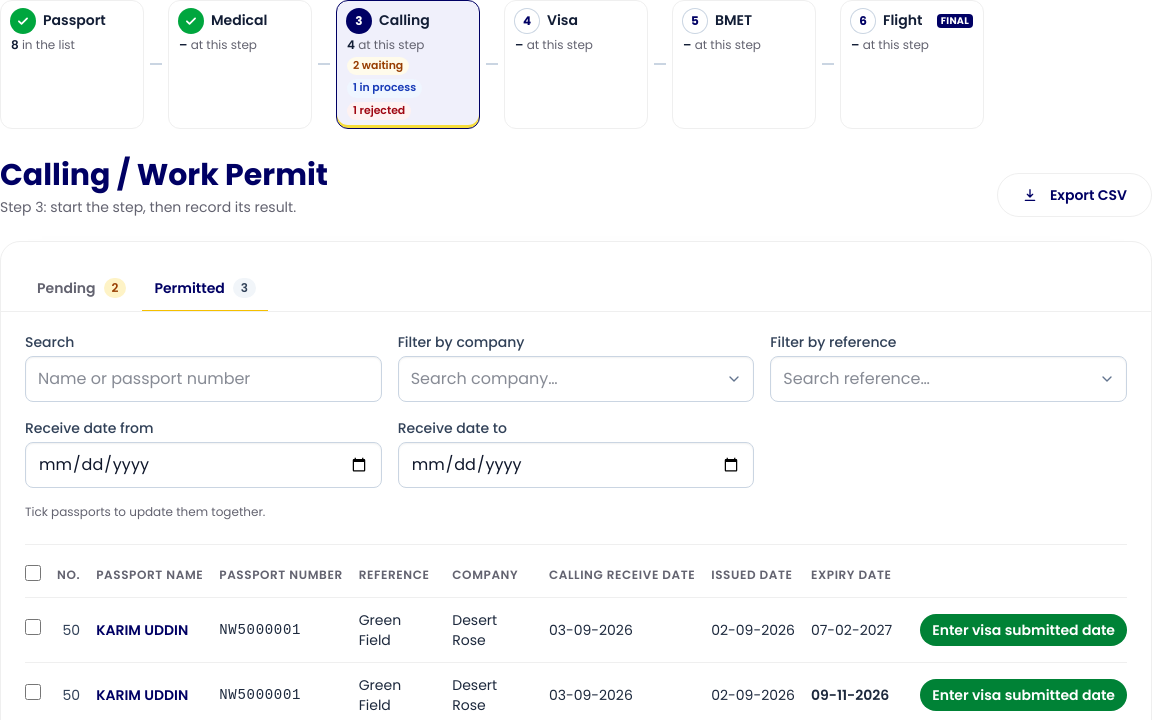
Step pages (one per step) › Calling: Pending and Permitted › Permitted › "Enter visa submitted date": one required date, not in the future
Step 1. Click the button "Enter visa submitted date" next to "07-02-2027" → coordinates (1024, 630), box [920,614,1127,646]
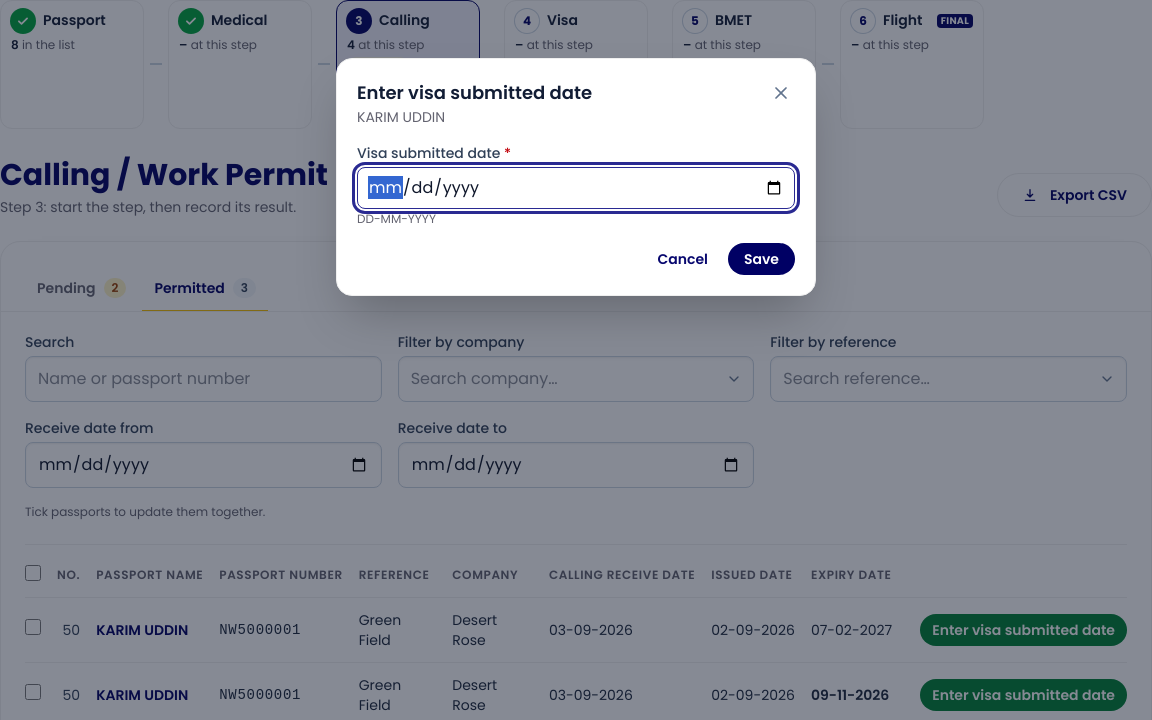
Result: the heading "Enter visa submitted date" is shown at [357,80,592,105]
Result: the label "Visa submitted date *" is shown at [357,143,511,163]
Step 2. Submit the form, box [357,143,795,275]
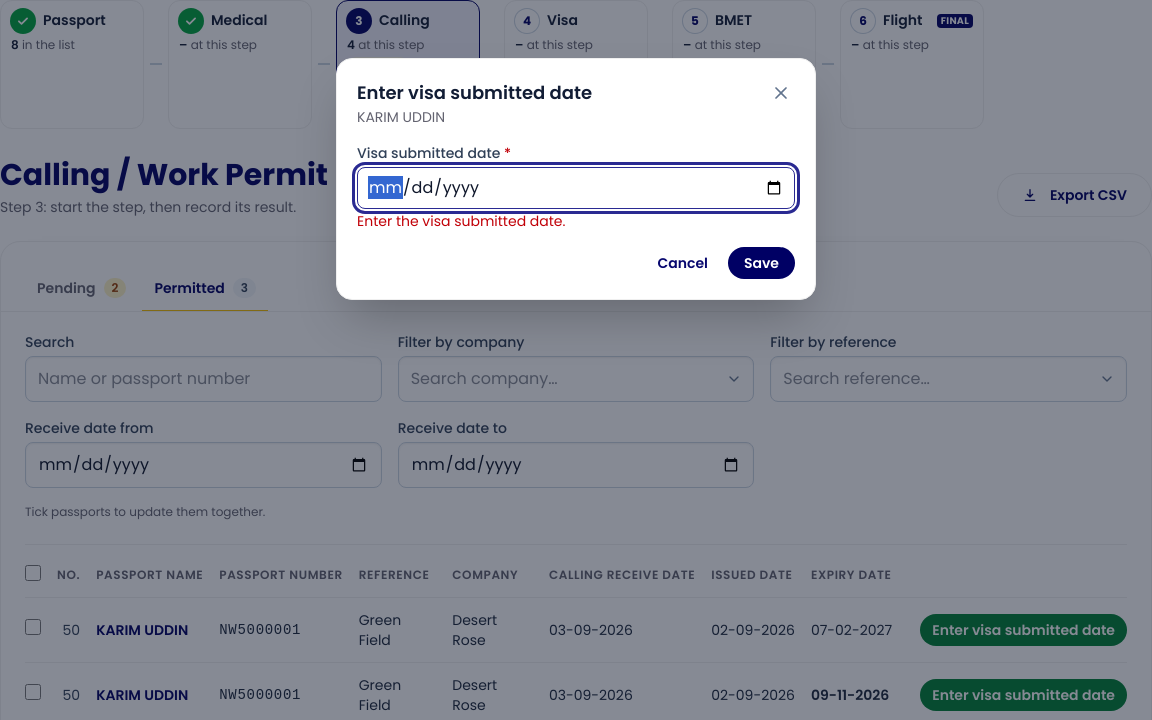
Result: the form shows "Enter the visa submitted date." at [357,211,566,231]
Step 3. Type "2026-10-31" into the date field labelled "Visa submitted date *" → coordinates (576, 188), box [357,167,795,209]
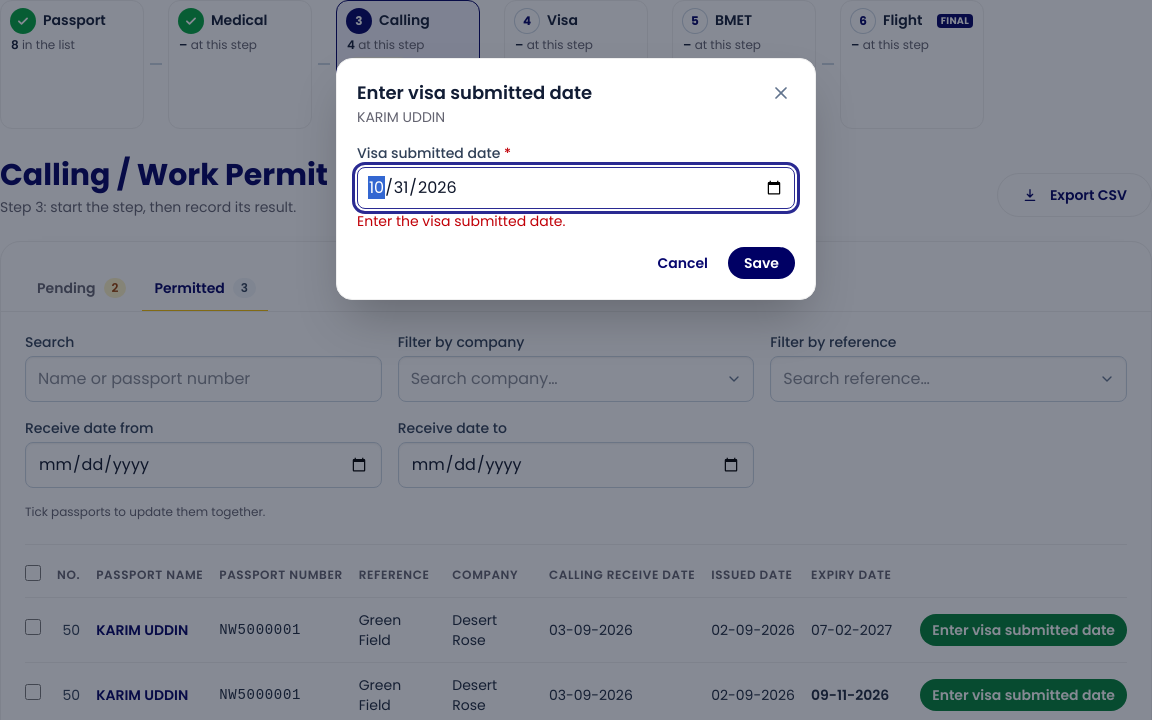
Step 4. Submit the form, box [357,143,795,279]
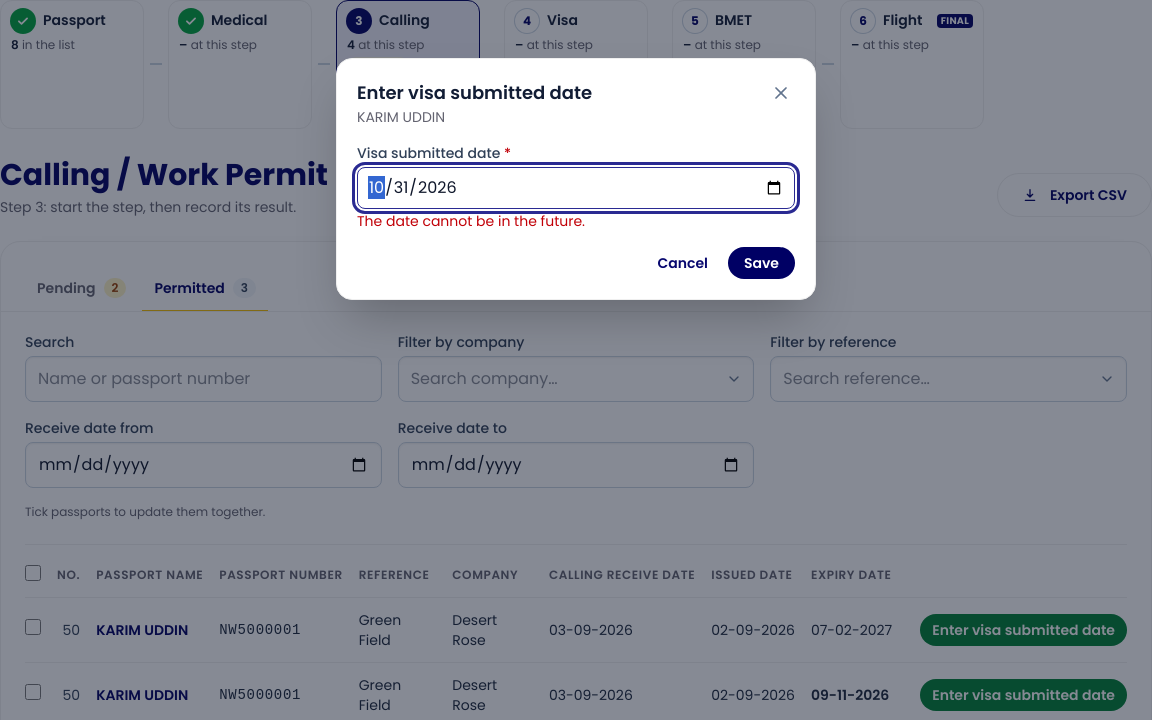
Result: the form shows "The date cannot be in the future." at [357,211,585,231]
